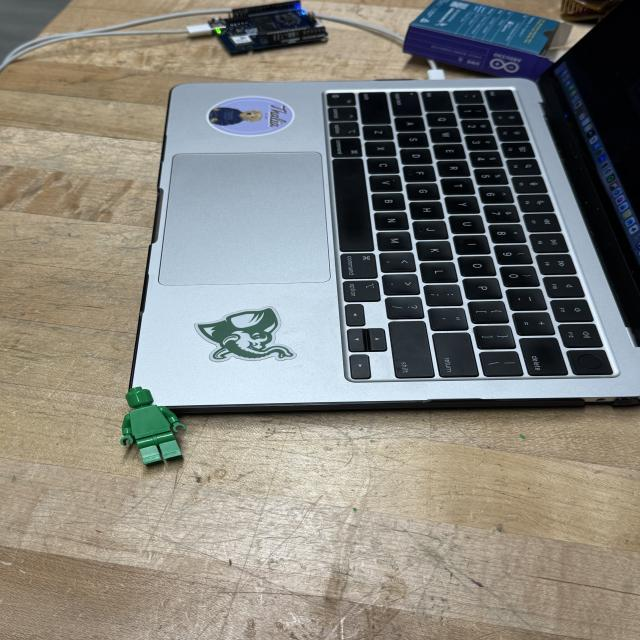Green Mini Figure: (120, 387, 186, 465)
